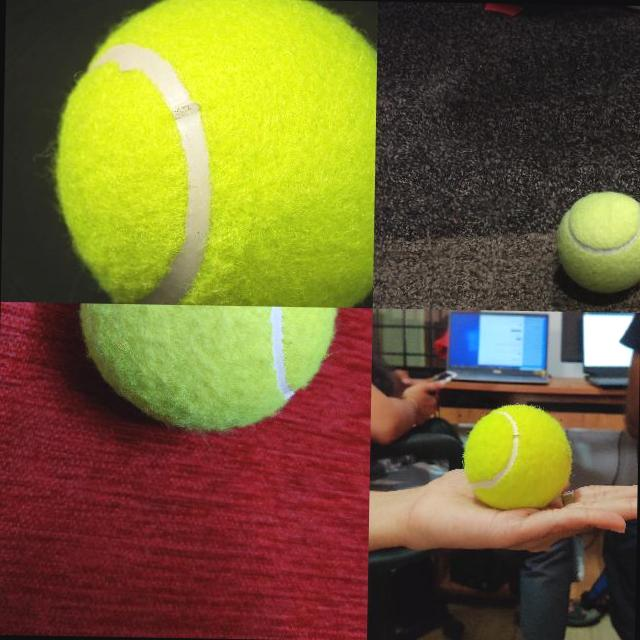Tennis Ball: (52, 0, 377, 307), (76, 302, 339, 432), (464, 404, 570, 506), (553, 188, 640, 295)
